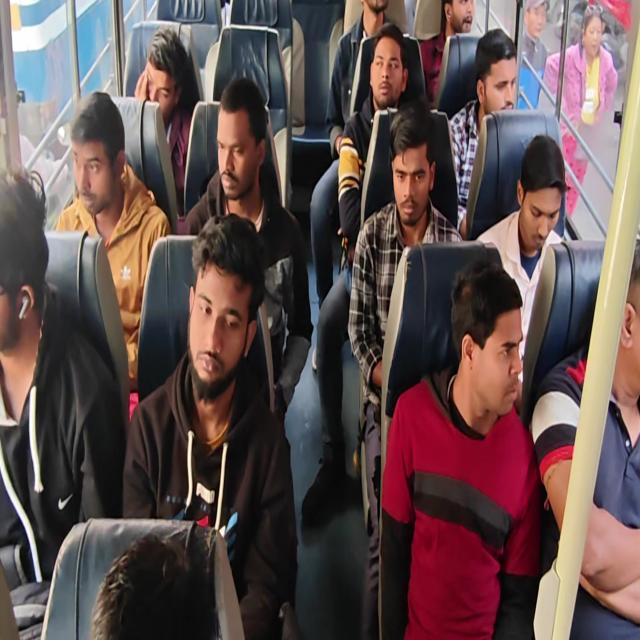person: (1, 1, 638, 638), (122, 212, 299, 638), (347, 99, 464, 637), (378, 258, 542, 638), (0, 165, 127, 638), (301, 22, 412, 524), (181, 76, 313, 424), (530, 238, 639, 638), (54, 90, 172, 399), (309, 1, 406, 310), (475, 133, 568, 412), (542, 4, 618, 217), (448, 28, 518, 238), (89, 532, 220, 639), (134, 26, 196, 213), (418, 0, 474, 105), (517, 0, 549, 80)
